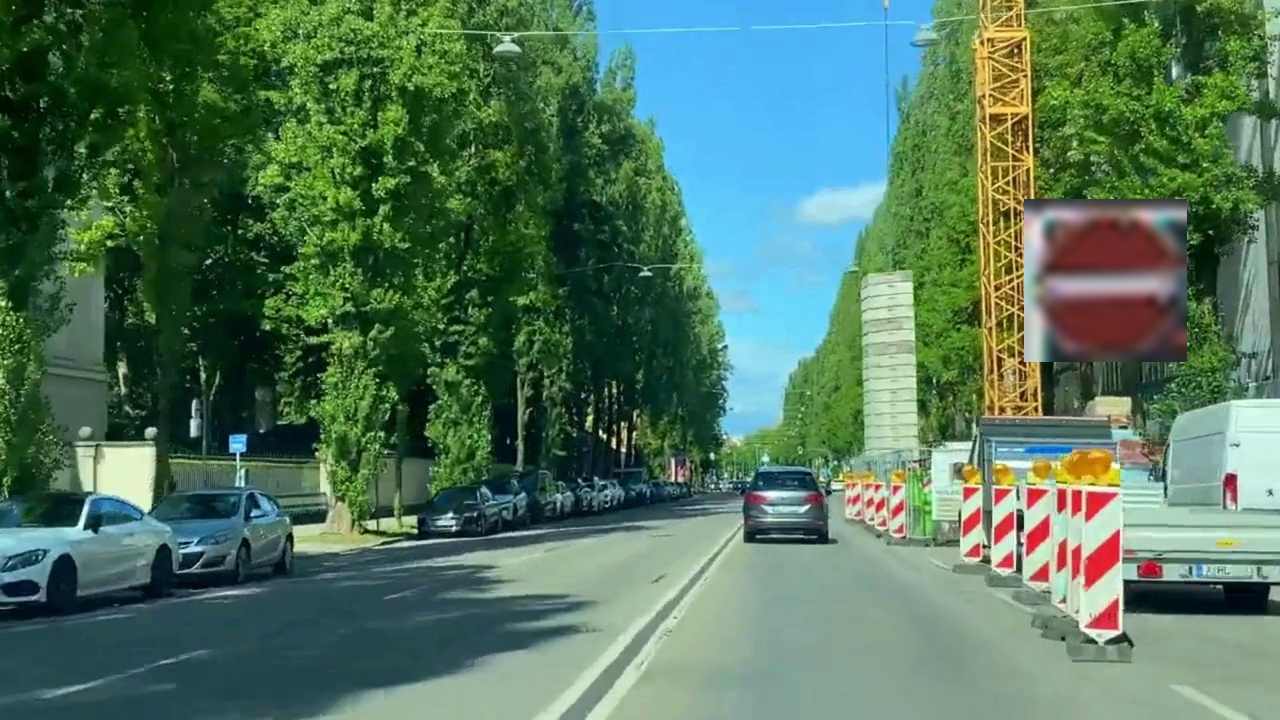No entry: (1024, 199, 1187, 362)
